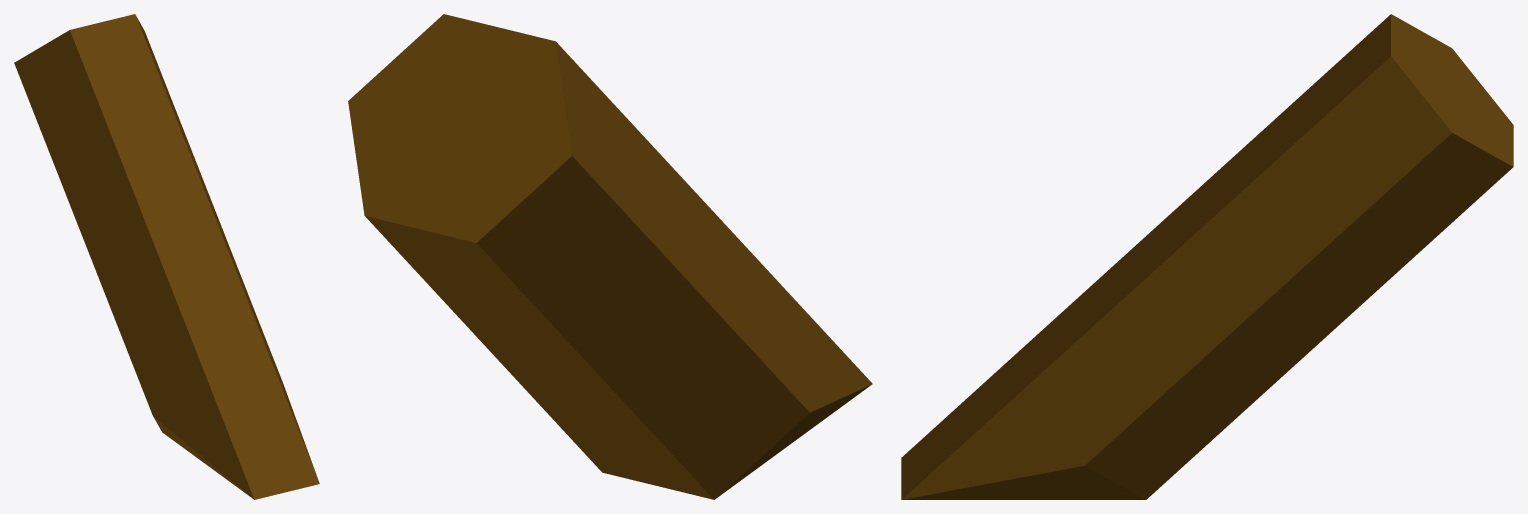
The model's file is wand_hand.obj.
The picture shows the model from 3 angles, left to right: view 1: azimuth 30°, elevation 25°; view 2: azimuth 150°, elevation 25°; view 3: azimuth 270°, elevation 25°; orthographic projection. The views are drawn at different scales.
Parts seen in each view (by area): view 1: cylinder; view 2: cylinder; view 3: cylinder.
Part boxes in pixels (<box>): cylinder: <box>14,14,319,499</box>; cylinder: <box>348,14,872,499</box>; cylinder: <box>901,14,1513,499</box>.
Size of the model in its own units: 0.2887 by 0.7071 by 0.8839.
